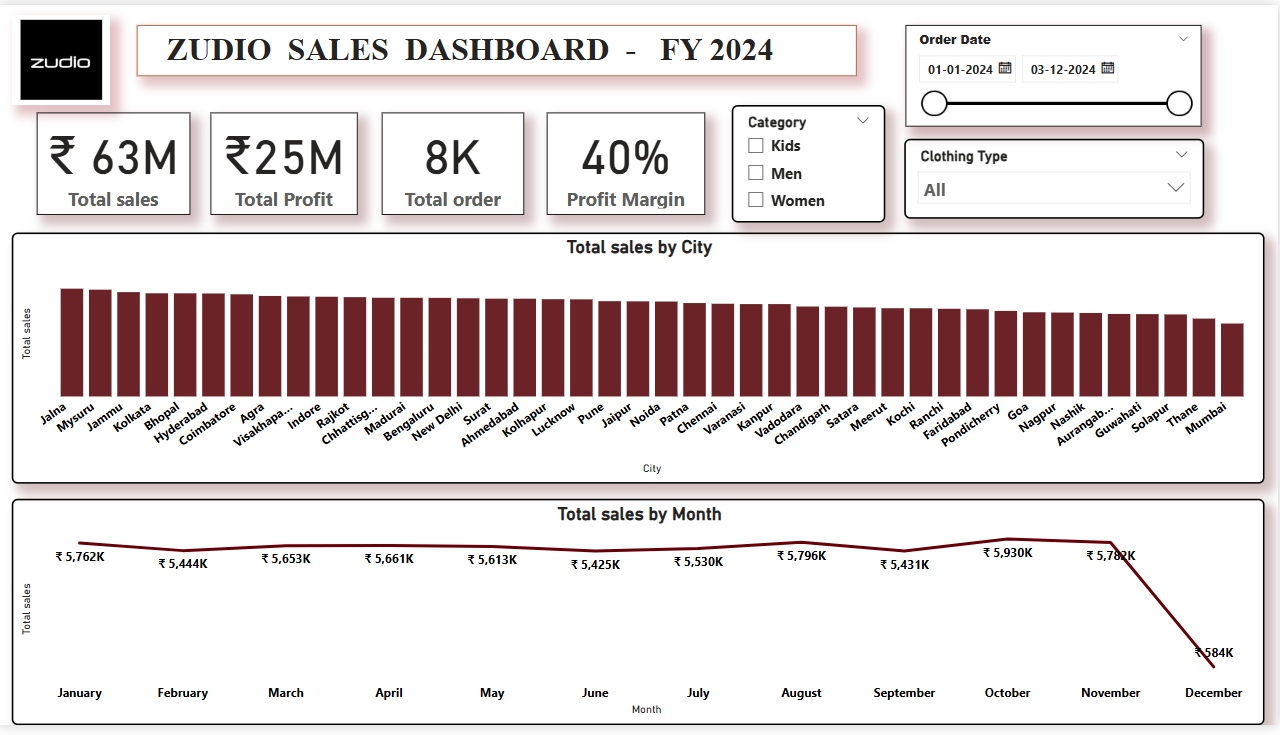

Layout of this report page (visuals, bound fields, positions):
{"tool":"powerbi","page":{"name":"Page 1","canvas":[1280,720],"ordinal":0},"visuals":[{"type":"image","box":[13.8,10,98.8,90],"z":0},{"type":"textbox","box":[138.8,20,720,51.2],"z":1000},{"type":"slicer","fields":{"Values":["Zudio_sales_data.Order Date"]},"box":[907.5,20,296.2,101.2],"z":2000},{"type":"lineChart","fields":{"Y":["Zudio_sales_data.Total sales"],"Category":["Zudio_sales_data.Order Date.Variation.Date Hierarchy.Month"]},"box":[13.8,493.8,1252.5,226.2],"z":3000},{"type":"columnChart","fields":{"Category":["Zudio_sales_data.City"],"Y":["Zudio_sales_data.Total sales"]},"box":[13.8,227.5,1252.5,251.2],"z":4000},{"type":"card","fields":{"Values":["Zudio_sales_data.Total sales"]},"box":[38.8,107.5,153.8,102.5],"z":5000},{"type":"card","fields":{"Values":["Zudio_sales_data.TOTAL PROFIT"]},"box":[212.5,107.5,147.5,102.5],"z":6000},{"type":"card","fields":{"Values":["Zudio_sales_data.Profit Margin"]},"box":[548.8,107.5,158.8,102.5],"z":7000},{"type":"slicer","fields":{"Values":["Zudio_sales_data.Category"]},"box":[733.8,100,153.8,117.5],"z":8000},{"type":"slicer","fields":{"Values":["Zudio_sales_data.Clothing Type"]},"box":[906.2,133.8,300,80],"z":9000},{"type":"card","fields":{"Values":["Zudio_sales_data.Total order"]},"box":[383.8,107.5,142.5,102.5],"z":10000}]}

Visuals, with their boxes in screenshot pixels (x1, y1, x2, y2), scaled from the page's 1280x720 canvas onto the 1280x735 screenshot:
image: Rect(14, 10, 113, 102)
textbox: Rect(139, 20, 859, 73)
slicer - Zudio_sales_data.Order Date: Rect(908, 20, 1204, 124)
lineChart - Zudio_sales_data.Total sales x Zudio_sales_data.Order Date.Variation.Date Hierarchy.Month: Rect(14, 504, 1266, 734)
columnChart - Zudio_sales_data.City x Zudio_sales_data.Total sales: Rect(14, 232, 1266, 489)
card - Zudio_sales_data.Total sales: Rect(39, 110, 193, 214)
card - Zudio_sales_data.TOTAL PROFIT: Rect(212, 110, 360, 214)
card - Zudio_sales_data.Profit Margin: Rect(549, 110, 708, 214)
slicer - Zudio_sales_data.Category: Rect(734, 102, 888, 222)
slicer - Zudio_sales_data.Clothing Type: Rect(906, 137, 1206, 218)
card - Zudio_sales_data.Total order: Rect(384, 110, 526, 214)
